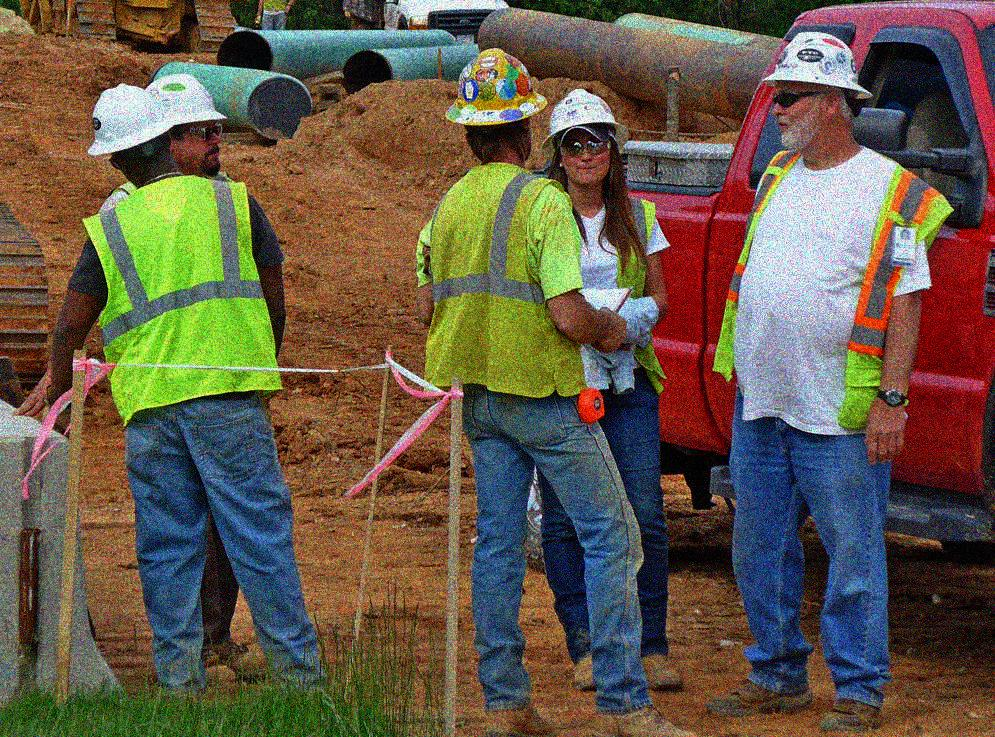helmet: (758, 30, 873, 152), (441, 48, 544, 160), (86, 83, 183, 179), (546, 87, 628, 189), (143, 76, 227, 174)
